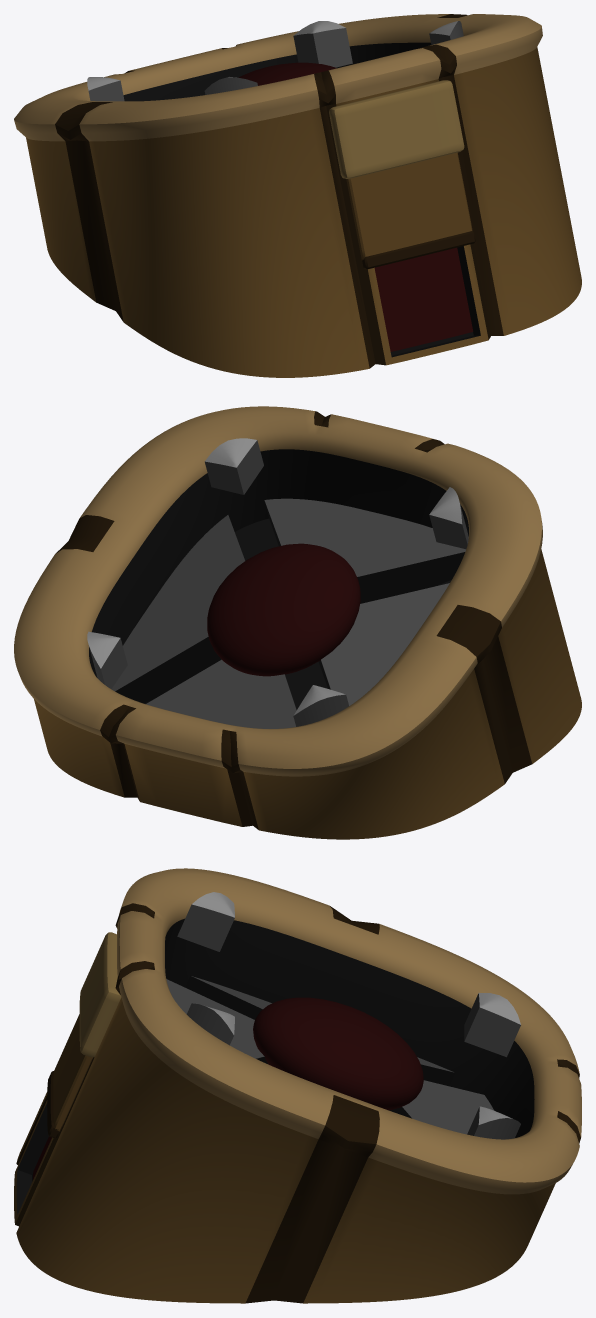
Rendered from eye_tub_203.glb.
3 renders of one model, top to bottom at view 1: azimuth 30°, elevation 25°; view 2: azimuth 150°, elevation 25°; view 3: azimuth 270°, elevation 25°, orthographic. The views are drawn at different scales.
Visible parts, largest first — view 1: tub, band, shutter, lamp, petal0, shutter_lip, eye, petal1, petal2, petal3; view 2: tub, eye, housing2, housing3, housing0, housing1, petal3, petal2, petal0, petal1; view 3: tub, eye, band, housing1, petal1, petal2, shutter, housing0, housing3, petal0, petal3.
Part boxes in pixels (<box>): tub: <box>14,14,581,377</box>; band: <box>329,80,464,178</box>; shutter: <box>346,152,472,260</box>; lamp: <box>374,247,473,351</box>; petal0: <box>293,21,352,67</box>; shutter_lip: <box>362,231,475,269</box>; eye: <box>238,62,336,85</box>; petal1: <box>87,77,124,101</box>; petal2: <box>204,77,257,94</box>; petal3: <box>429,21,463,44</box>; tub: <box>14,406,581,839</box>; eye: <box>207,543,360,676</box>; housing2: <box>111,515,244,703</box>; housing3: <box>264,498,465,603</box>; housing0: <box>318,583,449,705</box>; housing1: <box>146,659,296,728</box>; petal3: <box>204,438,263,494</box>; petal2: <box>429,487,468,549</box>; petal0: <box>87,631,127,689</box>; petal1: <box>293,685,348,726</box>; tub: <box>14,868,581,1303</box>; eye: <box>253,997,423,1110</box>; band: <box>79,932,121,1057</box>; housing1: <box>389,1080,493,1134</box>; petal1: <box>464,993,520,1057</box>; petal2: <box>177,892,234,951</box>; shutter: <box>53,1014,92,1131</box>; housing0: <box>185,976,455,1086</box>; housing3: <box>166,979,268,1064</box>; petal0: <box>467,1106,520,1139</box>; petal3: <box>186,1003,234,1045</box>.
Size of the model in its own units: 21.26 by 11.98 by 23.54.
